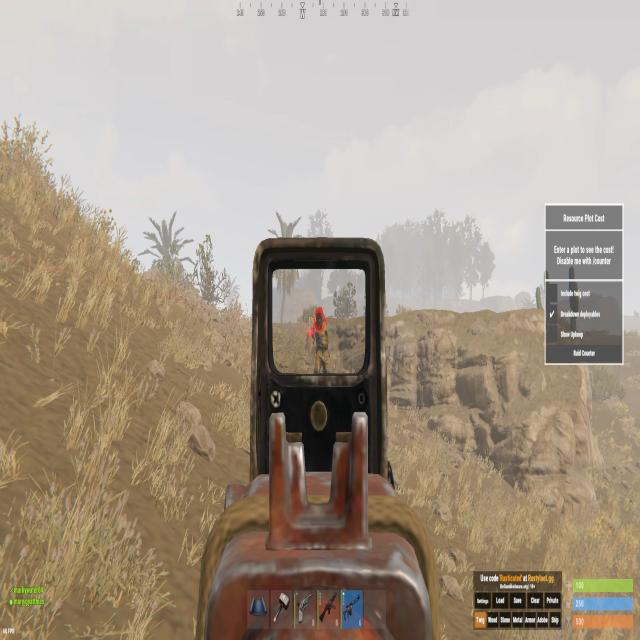Player: (310, 306, 330, 373)
